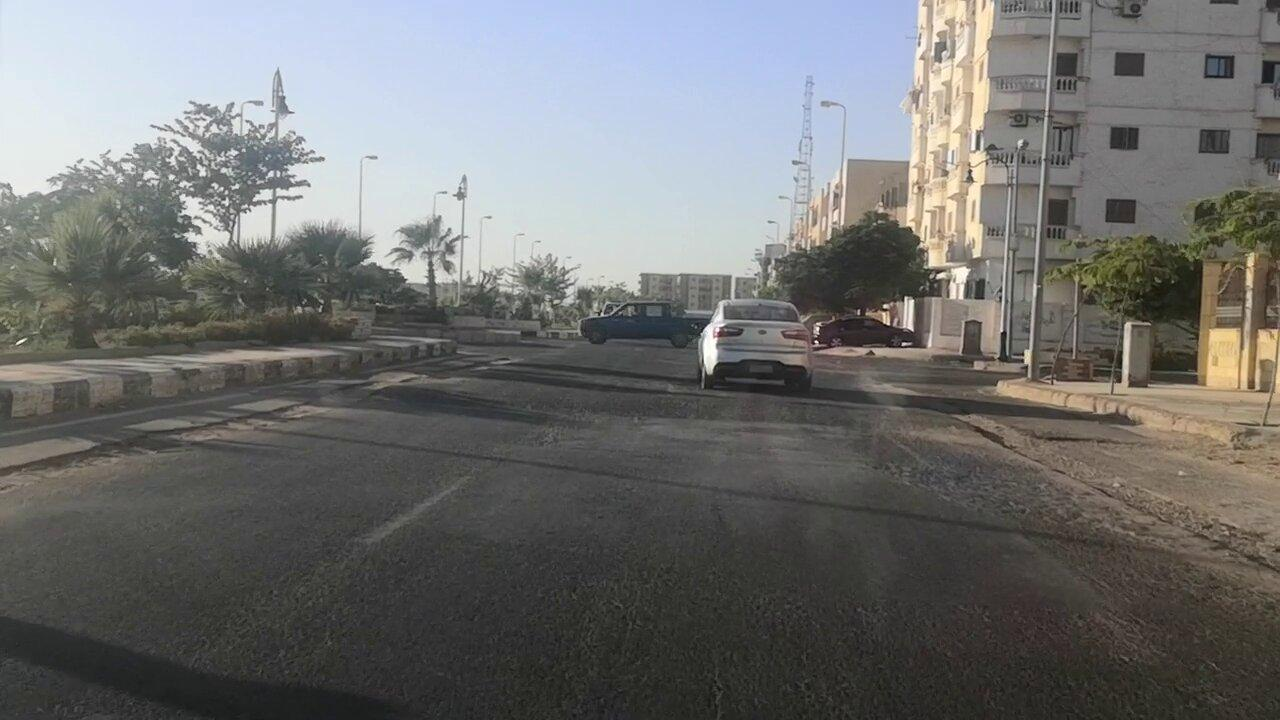Bump: (363, 378, 965, 448)
